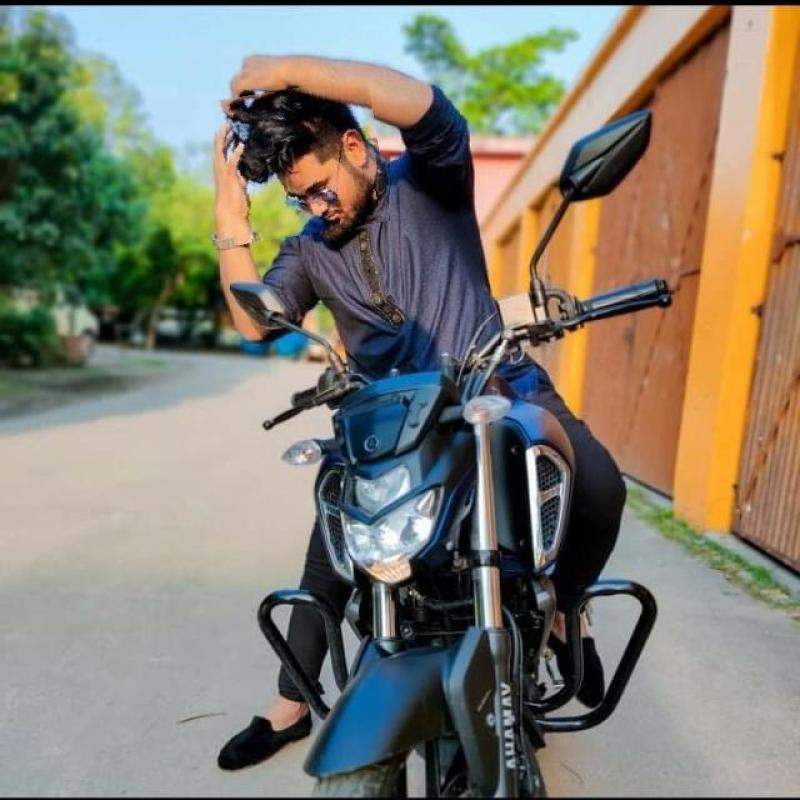nohelmet: (217, 82, 385, 240)
